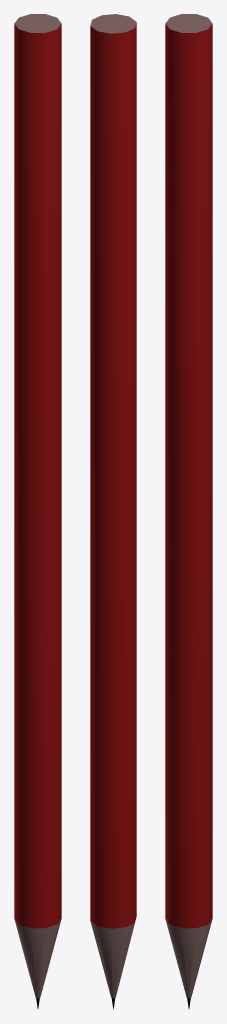
The model's file is 红铅笔.FBX.
The picture shows the model from 3 angles, left to right: view 1: azimuth 90°, elevation 25°; view 2: azimuth 210°, elevation 25°; view 3: azimuth 270°, elevation 25°; orthographic projection.
Visible parts, largest first — view 1: JJ_Qianbi; view 2: JJ_Qianbi; view 3: JJ_Qianbi.
Part boxes in pixels (<box>): JJ_Qianbi: <box>14,14,61,1008</box>; JJ_Qianbi: <box>90,14,136,1009</box>; JJ_Qianbi: <box>165,14,212,1008</box>.
Bounding box in the file's own units: 0.2782 × 6.74 × 0.2925.
